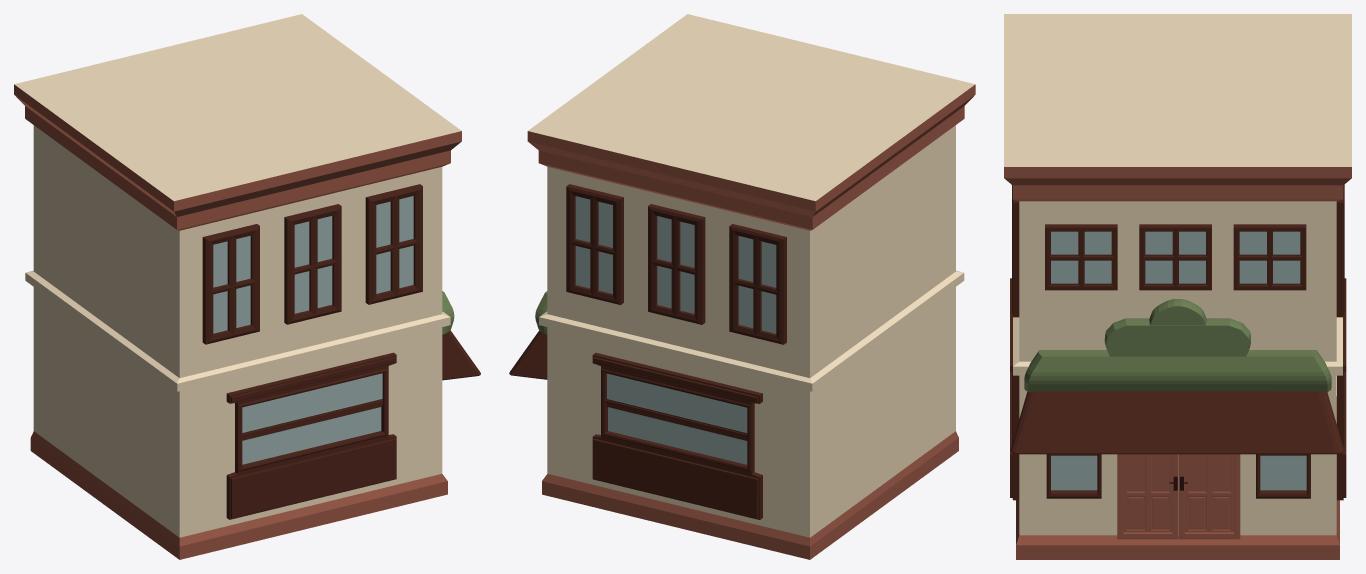
Rendered from ShopTall.fbx.
3 views of the same model, side by side, from view 1: azimuth 30°, elevation 25°; view 2: azimuth 150°, elevation 25°; view 3: azimuth 270°, elevation 25° (orthographic). The views are drawn at different scales.
Visible parts, largest first — view 1: BasicTallMid.001, TwoPaneExtraWide.006, WindowStraightSimple.ORG.009, Afdak; view 2: BasicTallMid.001, TwoPaneExtraWide.006, WindowStraightSimple.ORG.009, Afdak; view 3: BasicTallMid.001, Afdak, Sign, FourPaneBasic.005, SingleGlassDoor.003, TwoPaneWindow.005, TwoPaneExtraWide.006, WindowStraightSimple.ORG.009.
Boxes of the visible parts, x1,y1,x2,y2 form: BasicTallMid.001: (14, 14, 461, 559); TwoPaneExtraWide.006: (226, 352, 396, 519); WindowStraightSimple.ORG.009: (202, 184, 422, 344); Afdak: (442, 330, 480, 380); BasicTallMid.001: (527, 14, 975, 559); TwoPaneExtraWide.006: (592, 352, 762, 519); WindowStraightSimple.ORG.009: (566, 184, 786, 344); Afdak: (509, 330, 547, 379); BasicTallMid.001: (1004, 14, 1351, 559); Afdak: (1010, 391, 1344, 454); Sign: (1024, 299, 1331, 392); FourPaneBasic.005: (1045, 224, 1306, 290); SingleGlassDoor.003: (1117, 454, 1240, 539); TwoPaneWindow.005: (1046, 454, 1310, 498); TwoPaneExtraWide.006: (1010, 278, 1346, 500); WindowStraightSimple.ORG.009: (1012, 185, 1344, 317).
Size of the model in its own units: 0.1675 by 0.1891 by 0.2113.
